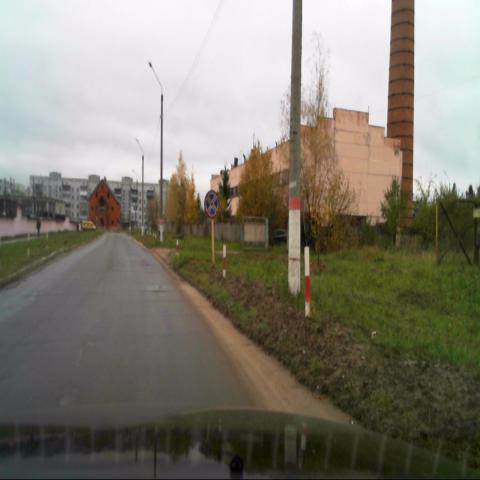3_27: (204, 189, 220, 218)
